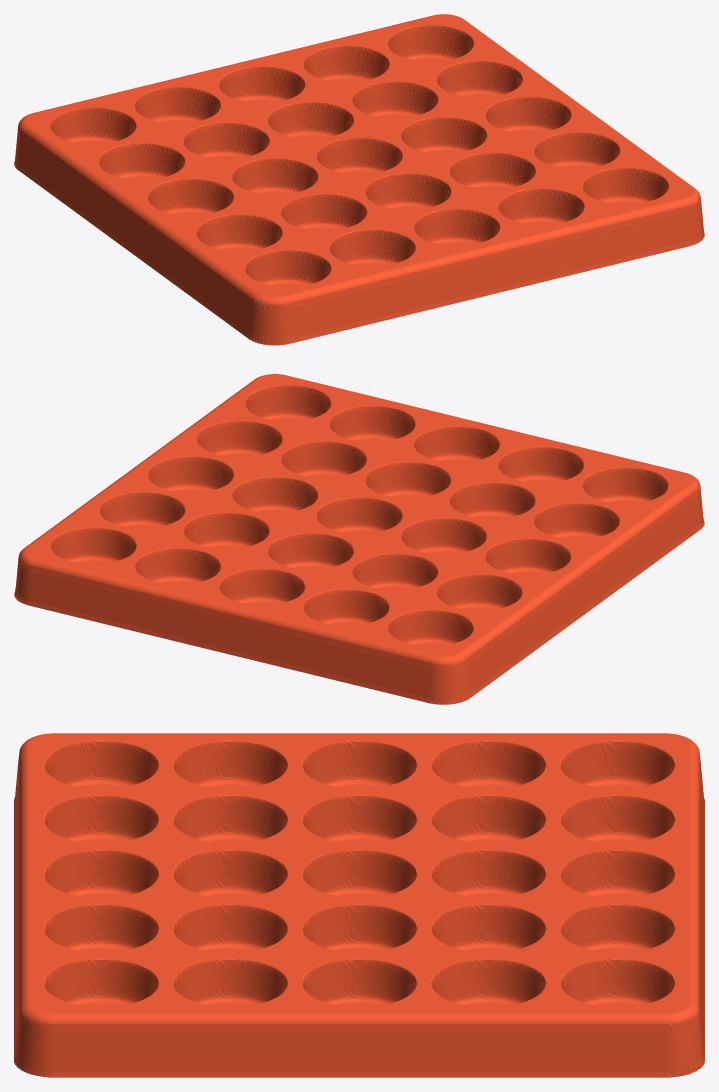
File: mold.glb
The picture shows the model from 3 angles, top to bottom: view 1: azimuth 30°, elevation 25°; view 2: azimuth 150°, elevation 25°; view 3: azimuth 270°, elevation 25°; orthographic projection. The views are drawn at different scales.
Visible parts, largest first — view 1: geometry_0; view 2: geometry_0; view 3: geometry_0.
Boxes of the visible parts, x1,y1,x2,y2 form: geometry_0: (14, 14, 704, 345); geometry_0: (14, 374, 704, 704); geometry_0: (14, 733, 704, 1077).
Size of the model in its own units: 0.1571 by 0.0145 by 0.1571.
